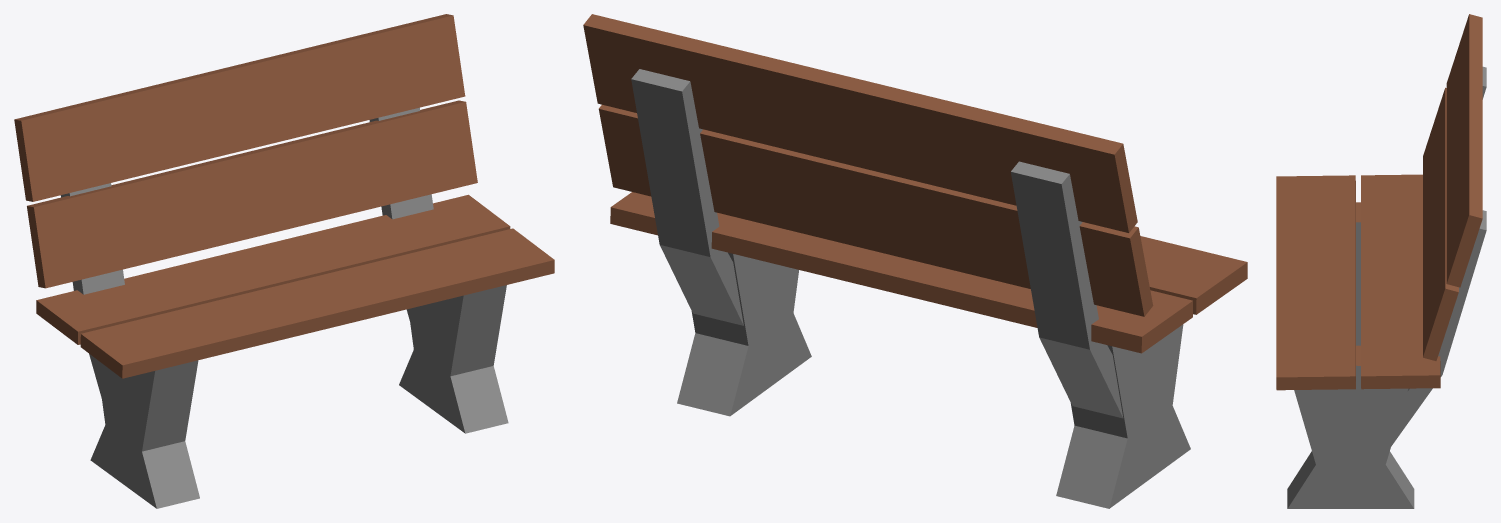
Rendered from BancoSeparado.fbx.
The picture shows the model from 3 angles, left to right: view 1: azimuth 30°, elevation 25°; view 2: azimuth 150°, elevation 25°; view 3: azimuth 270°, elevation 25°; orthographic projection. The views are drawn at different scales.
Parts seen in each view (by area): view 1: cima001, cima002, Bench_01_Cube.013, baixo002, baixo001; view 2: Bench_01_Cube.013, cima001, cima002, baixo001, baixo002; view 3: baixo002, Bench_01_Cube.013, baixo001, cima001, cima002.
Part boxes in pixels (x1,y1,x2,y2): cima001: [14, 14, 465, 201]; cima002: [27, 100, 477, 288]; Bench_01_Cube.013: [60, 107, 508, 508]; baixo002: [80, 228, 554, 378]; baixo001: [36, 194, 510, 344]; Bench_01_Cube.013: [631, 69, 1190, 508]; cima001: [583, 14, 1137, 232]; cima002: [598, 104, 1153, 316]; baixo001: [610, 192, 1192, 353]; baixo002: [1140, 236, 1247, 314]; baixo002: [1276, 175, 1355, 390]; Bench_01_Cube.013: [1287, 66, 1486, 508]; baixo001: [1361, 174, 1440, 389]; cima001: [1446, 14, 1482, 287]; cima002: [1423, 87, 1458, 360].
Bounding box in the file's own units: 1580 × 1146 × 699.
